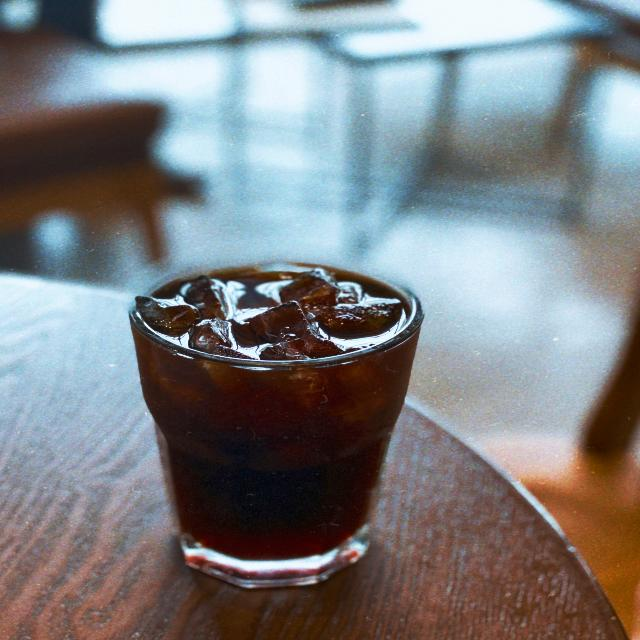drink: (127, 265, 428, 563)
